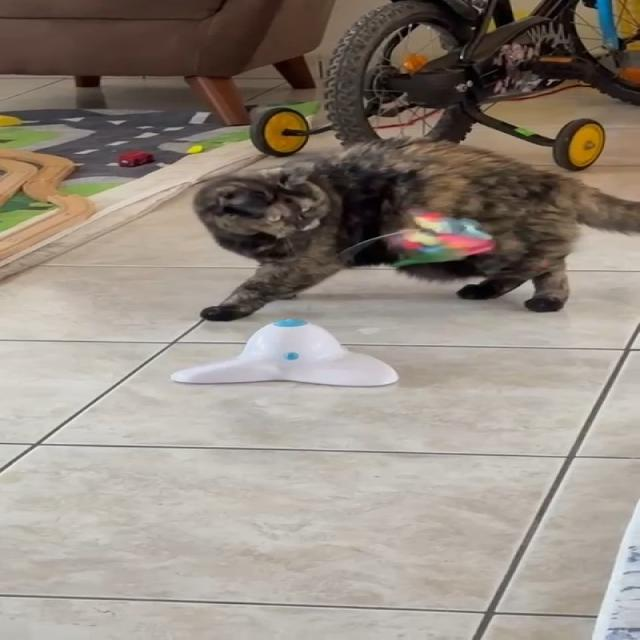authorized: (191, 134, 638, 322)
